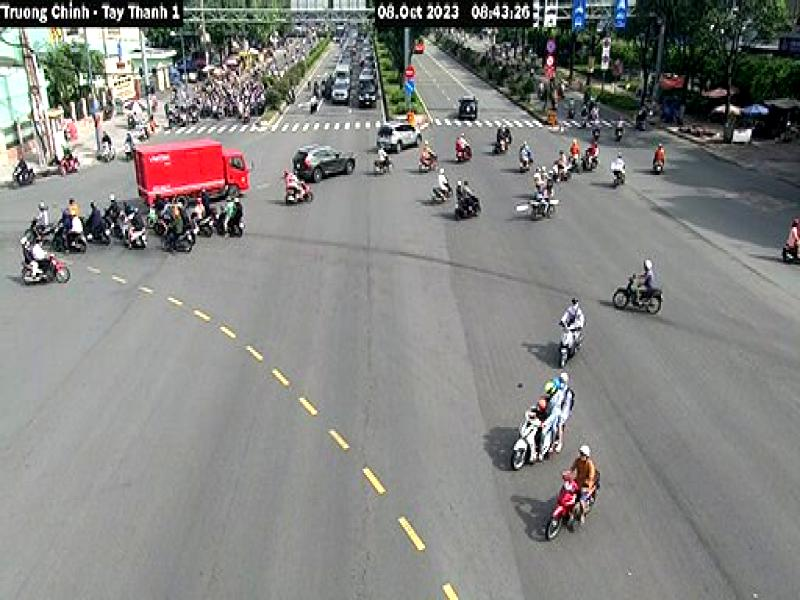truck: (133, 138, 249, 218)
